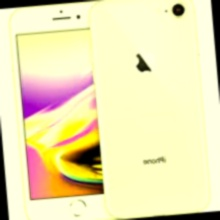iphone: (16, 1, 123, 219)
